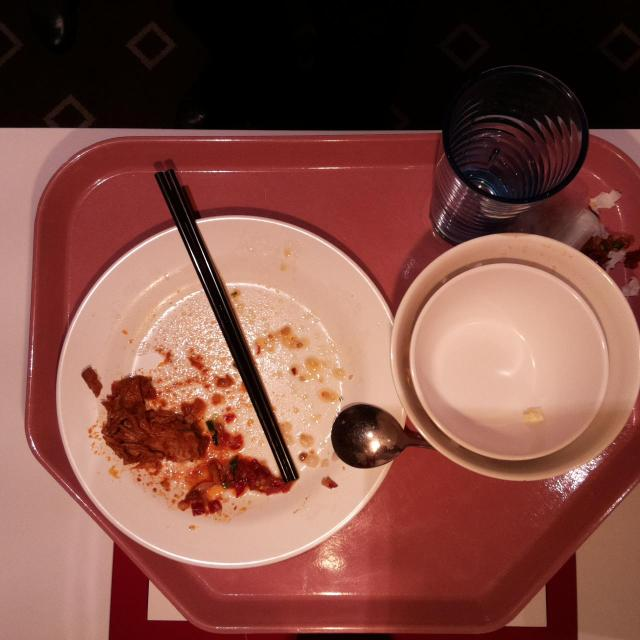Meat: (108, 404, 202, 462)
